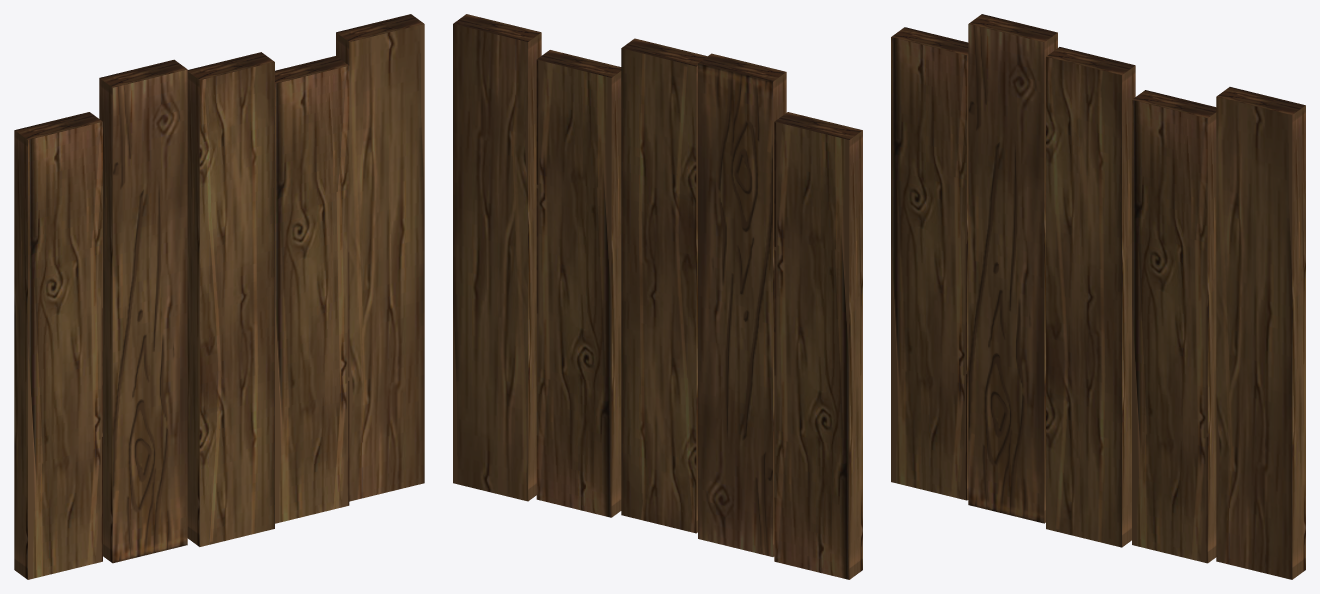
The model's file is fanasty_mod_gro_fence_panel.fbx.
3 views of the same model, side by side, from view 1: azimuth 30°, elevation 25°; view 2: azimuth 150°, elevation 25°; view 3: azimuth 330°, elevation 25° (orthographic).
Visible parts, largest first — view 1: gro_fence_panel; view 2: gro_fence_panel; view 3: gro_fence_panel.
Part boxes in pixels (x1,y1,x2,y2): gro_fence_panel: (14,14,424,579); gro_fence_panel: (453,14,862,579); gro_fence_panel: (891,14,1305,579).
Bounding box in the file's own units: 1.26 × 1.44 × 0.1253.
